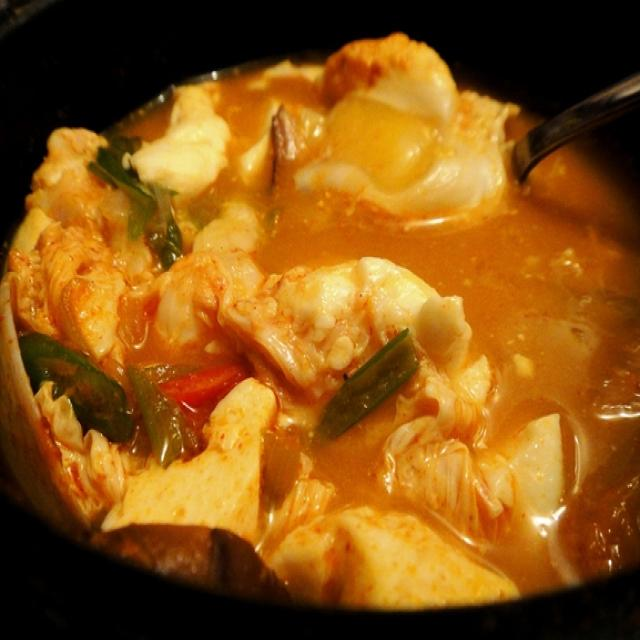汤锅炖物: (15, 21, 618, 598)
